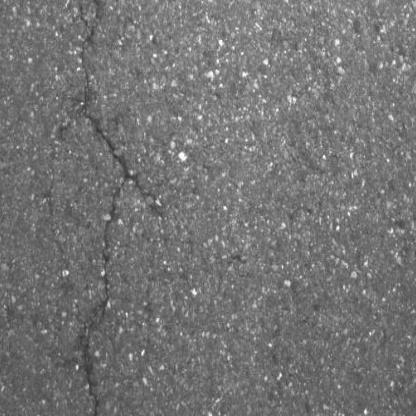Cracks: (76, 0, 147, 416)
